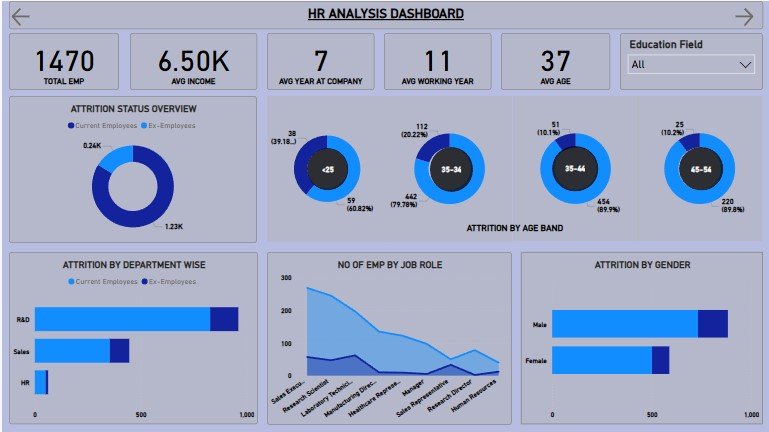

Layout of this report page (visuals, bound fields, positions):
{"tool":"powerbi","page":{"name":"HR_Analysis_Dashboard","canvas":[1280,720],"ordinal":0},"visuals":[{"type":"textbox","box":[11.7,0,1258.3,46.7],"z":0},{"type":"card","fields":{"Values":["HR data.AVG AGE"]},"box":[835,53.4,185,95],"z":0,"group":"g1"},{"type":"donutChart","fields":{"Category":["HR data.Gender","HR data.CF_age band"],"Y":["CountNonNull(HR data.emp no)"]},"box":[441.7,158.8,203.3,243.3],"z":0,"group":"g3"},{"type":"shape","box":[1133.4,246.1,73.3,73.3],"z":0,"group":"g4"},{"type":"card","fields":{"Values":["HR data.TOTAL EMP"]},"box":[11.7,53.3,201.7,95],"z":1000},{"type":"card","fields":{"Values":["HR data.FEMALE"]},"box":[441.7,53.4,181.7,95],"z":1000,"group":"g1"},{"type":"donutChart","fields":{"Category":["HR data.Gender","HR data.CF_age band"],"Y":["CountNonNull(HR data.emp no)"]},"box":[645,158.8,211.7,243.3],"z":1000,"group":"g3"},{"type":"shape","box":[924.5,244.2,76.4,75.5],"z":1000,"group":"g4"},{"type":"card","fields":{"Values":["HR data.AVG SALARY"]},"box":[228.3,53.3,196.7,95],"z":2000},{"type":"card","fields":{"Values":["HR data.MALE"]},"box":[638.4,53.4,181.7,95],"z":2000,"group":"g1"},{"type":"donutChart","fields":{"Category":["HR data.Gender","HR data.CF_age band"],"Y":["CountNonNull(HR data.emp no)"]},"box":[856.7,158,211.7,243],"z":2000,"group":"g3"},{"type":"shape","box":[712.6,246,77.3,74.5],"z":2000,"group":"g4"},{"type":"slicer","fields":{"Values":["HR data.Education Field"]},"box":[1035.6,52.8,235,95],"z":3000,"group":"g1"},{"type":"donutChart","fields":{"Category":["HR data.Gender","HR data.CF_age band"],"Y":["CountNonNull(HR data.emp no)"]},"box":[1068.4,158.4,201.7,243.3],"z":3000,"group":"g3"},{"type":"shape","box":[508.4,247,70,71.7],"z":3000,"group":"g4"},{"type":"barChart","title":"DEPARTMENT WISE TOTAL EMP","fields":{"Category":["HR data.Department"],"Y":["CountNonNull(HR data.emp no)"]},"box":[11.7,418.3,415,288.3],"z":3000},{"type":"barChart","title":"NO OF EMP BY JOB ROLE","fields":{"Category":["HR data.Job Role"],"Y":["Sum(HR data.Employee Count)"]},"box":[441.7,418.3,408.3,288.3],"z":4000},{"type":"barChart","title":"NO OF EMP BY AGE BAND","fields":{"Category":["HR data.CF_age band"],"Y":["HR data.TOTAL EMP"]},"box":[865,418.3,405,288.3],"z":5000},{"type":"pieChart","title":"NO OF EMP BY GENDER","fields":{"Category":["HR data.Gender"],"Y":["Count(HR data.emp no)"]},"box":[11.7,158.3,413.3,245],"z":6000},{"type":"group","id":"g1","title":"Group 1","box":[441.7,52.8,828.9,95.6],"z":7000},{"type":"group","id":"g2","title":"Group 4","box":[441.7,158,828.3,244.2],"z":8000},{"type":"group","id":"g3","title":"Group 2","box":[441.7,158,828.3,244.2],"z":9000,"group":"g2"},{"type":"textbox","box":[441.7,360,838.3,40],"z":9000},{"type":"group","id":"g4","title":"Group 3","box":[508.4,244.2,698.3,76.4],"z":9500,"group":"g2"},{"type":"actionButton","box":[1222,4,48,40],"z":10000}]}

Visuals, with their boxes in screenshot pixels (x1, y1, x2, y2), scaled from the page's 1280x720 canvas onto the 769x432 screenshot:
textbox: locate(7, 0, 763, 28)
card - HR data.AVG AGE: locate(502, 32, 613, 89)
donutChart - HR data.Gender x HR data.CF_age band: locate(265, 95, 388, 241)
shape: locate(681, 148, 725, 192)
card - HR data.TOTAL EMP: locate(7, 32, 128, 89)
card - HR data.FEMALE: locate(265, 32, 375, 89)
donutChart - HR data.Gender x HR data.CF_age band: locate(388, 95, 515, 241)
shape: locate(555, 147, 601, 192)
card - HR data.AVG SALARY: locate(137, 32, 255, 89)
card - HR data.MALE: locate(384, 32, 493, 89)
donutChart - HR data.Gender x HR data.CF_age band: locate(515, 95, 642, 241)
shape: locate(428, 148, 475, 192)
slicer - HR data.Education Field: locate(622, 32, 763, 89)
donutChart - HR data.Gender x HR data.CF_age band: locate(642, 95, 763, 241)
shape: locate(305, 148, 347, 191)
"DEPARTMENT WISE TOTAL EMP" barChart: locate(7, 251, 256, 424)
"NO OF EMP BY JOB ROLE" barChart: locate(265, 251, 511, 424)
"NO OF EMP BY AGE BAND" barChart: locate(520, 251, 763, 424)
"NO OF EMP BY GENDER" pieChart: locate(7, 95, 255, 242)
"Group 1" group: locate(265, 32, 763, 89)
"Group 4" group: locate(265, 95, 763, 241)
"Group 2" group: locate(265, 95, 763, 241)
textbox: locate(265, 216, 768, 240)
"Group 3" group: locate(305, 147, 725, 192)
actionButton: locate(734, 2, 763, 26)
